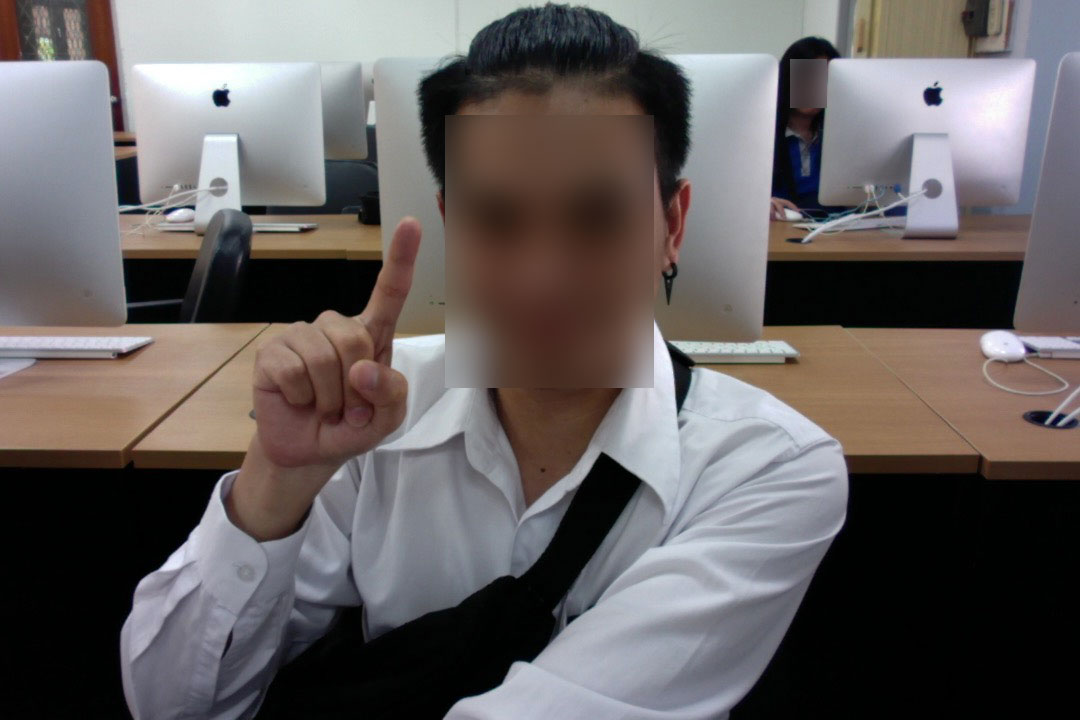dor: (219, 213, 435, 481)
